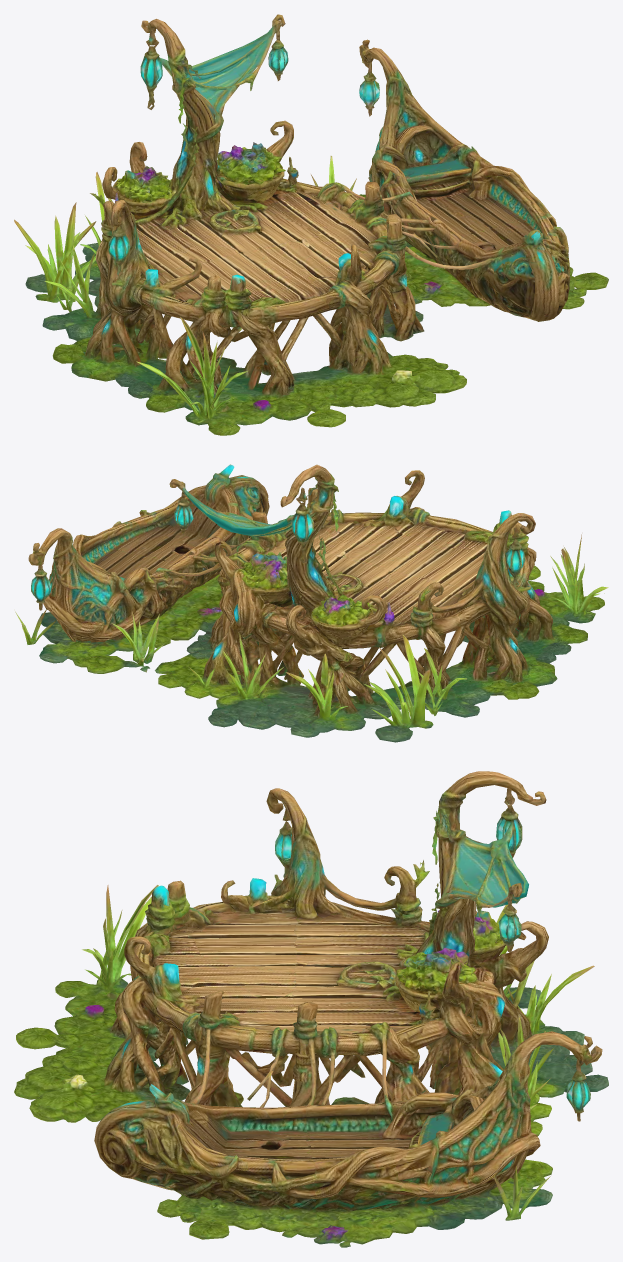
Rendered from boat-dock.glb.
The picture shows the model from 3 angles, top to bottom: view 1: azimuth 30°, elevation 25°; view 2: azimuth 150°, elevation 25°; view 3: azimuth 270°, elevation 25°; orthographic projection. The views are drawn at different scales.
Bounding box in the file's own units: 1.88 × 0.8675 × 1.63.
Materials: 1 (1 with a texture image).
